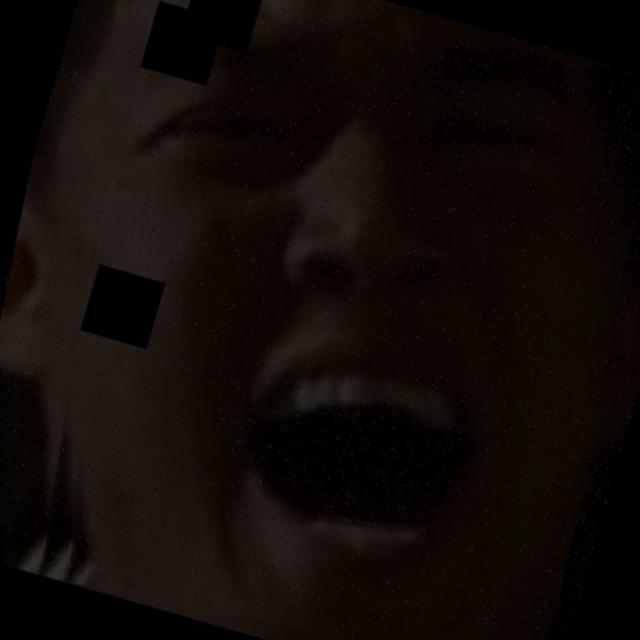Angry: (60, 39, 640, 640)
